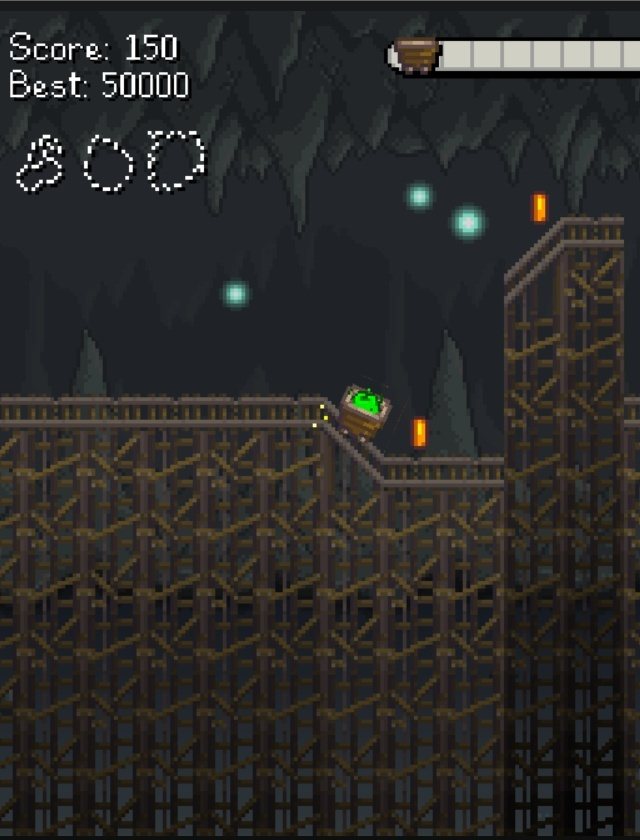coins: (531, 193, 548, 224), (412, 417, 428, 448)
minecart: (339, 384, 390, 440)
tracks: (0, 385, 515, 492)
